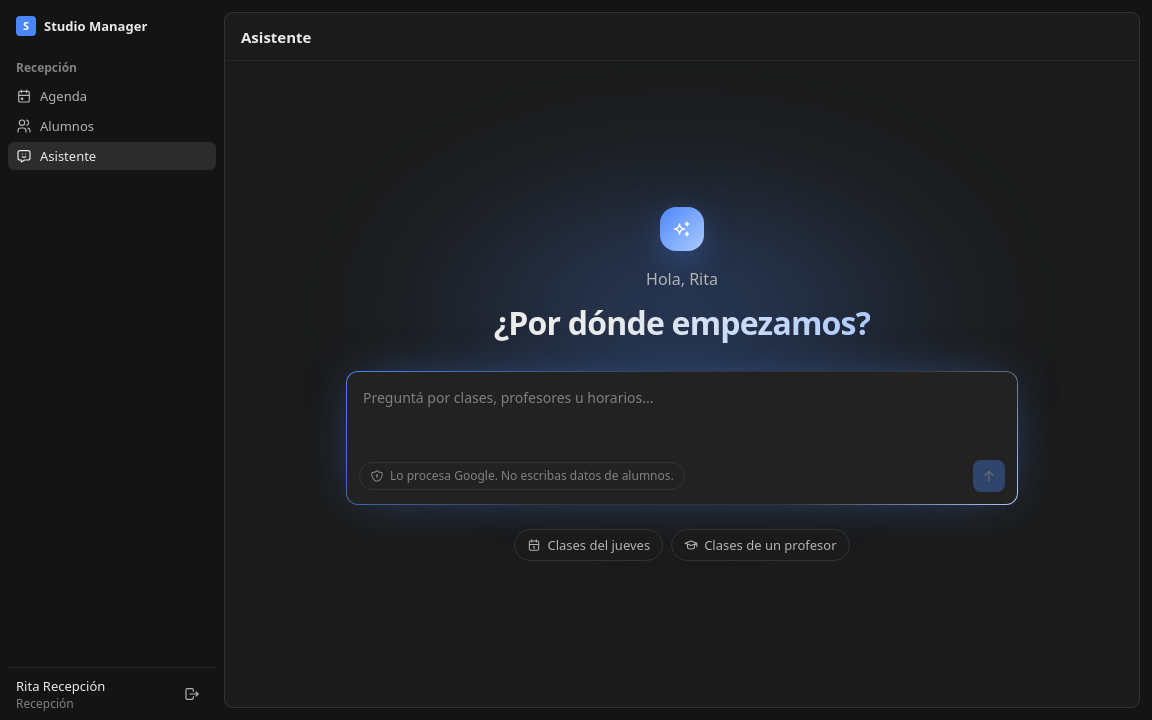
/asistente › si la API falla muestra el error y el campo conserva lo escrito
The image size is (1152, 720).
Type "¿Qué clases hay mañana?" into the text box named "Mensaje para el asistente".
click(682, 414); type("¿Qué clases hay mañana?")  # box [347,372,1017,456]
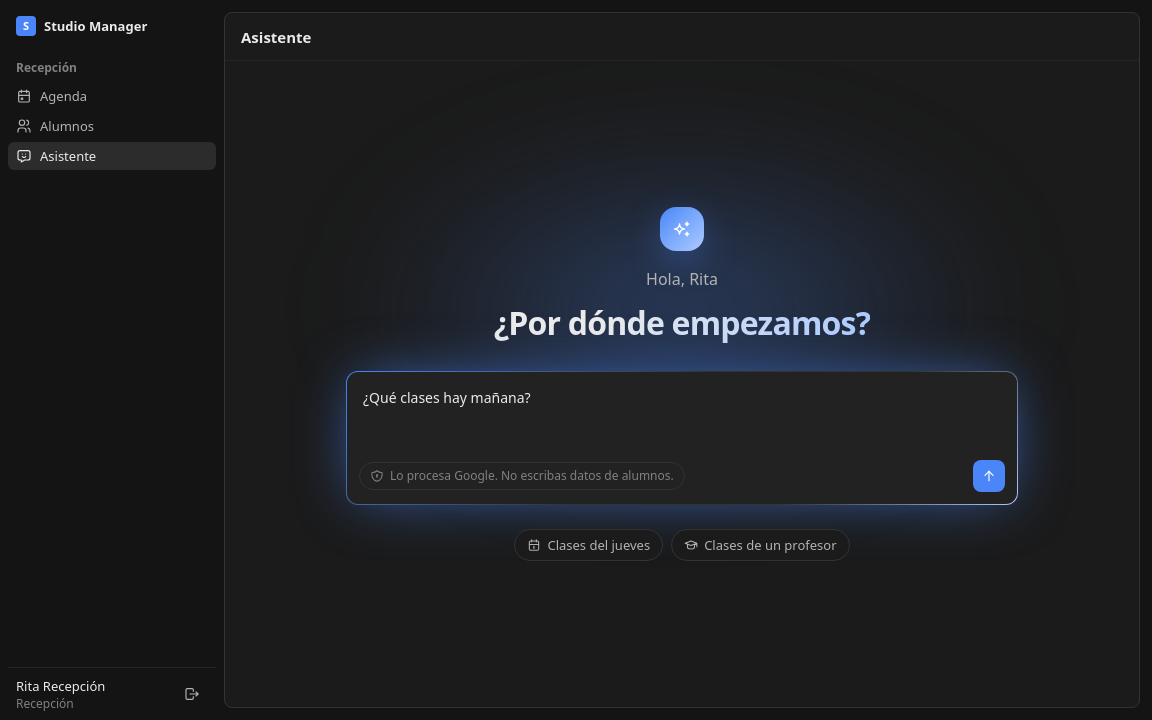
Click the button named "Enviar".
click(989, 476)  # box [973,460,1005,492]
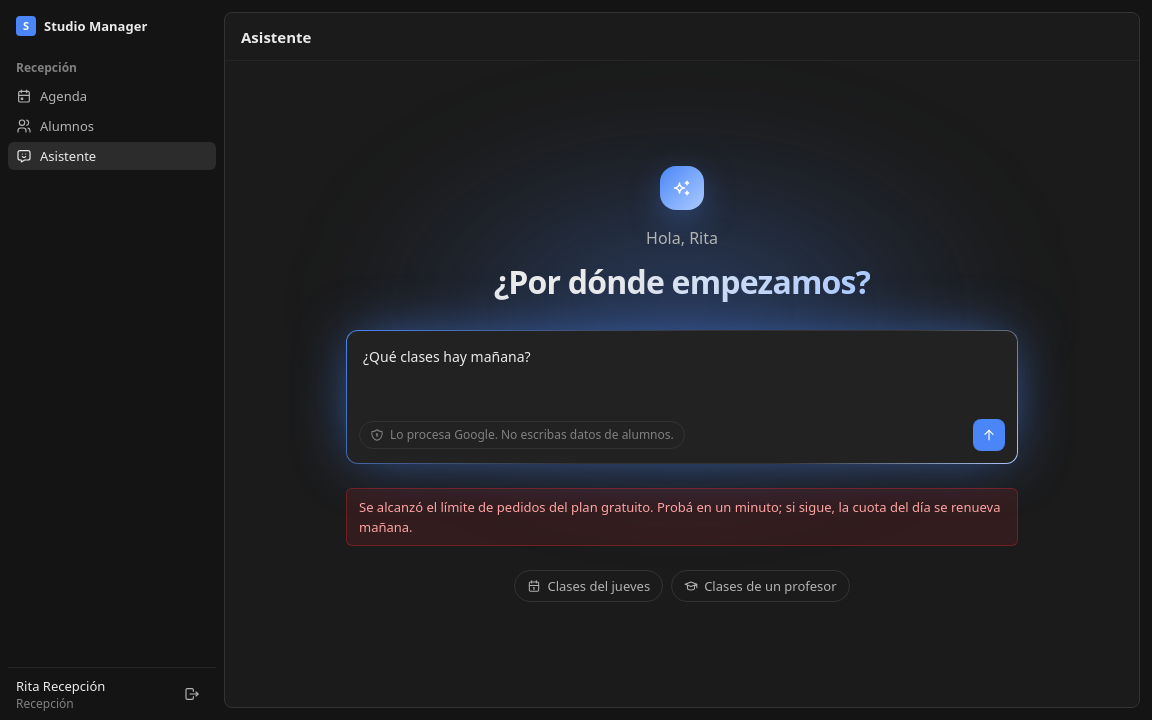
Expected: the heading "¿Por dónde empezamos?" is shown, [494,262,870,306]
Expected: the message shows "Se alcanzó el límite de pedidos del plan gratuito. Probá en un minuto; si sigue, la cuota del día se renueva mañana.", [359,498,1000,536]
